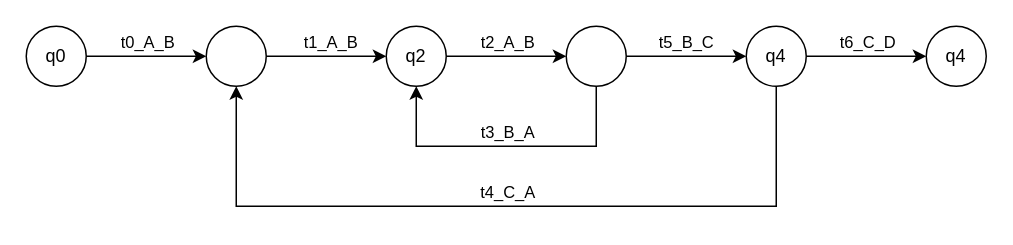
The diagram is 1013 pixels wide and 245 high, and some of its shapes have lost their labels. Here are the shapes that lost their labels. From the top down, the centre of each, then its label:
(235,55): q1
(595,55): q3
